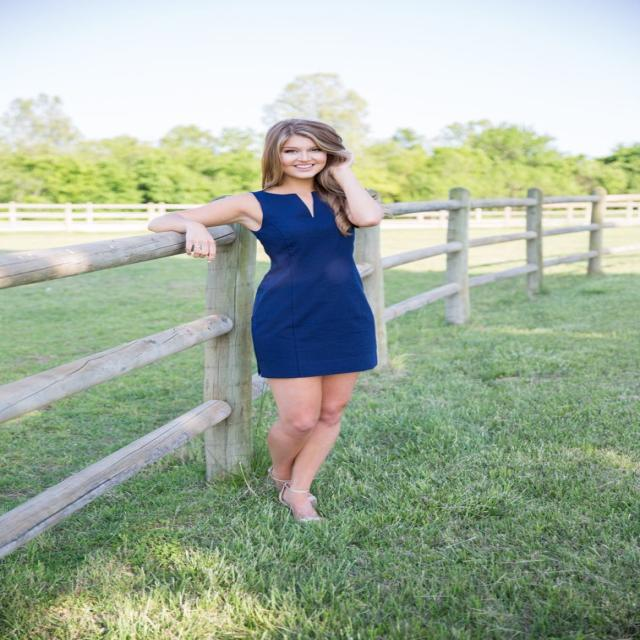adult: (158, 106, 392, 530)
